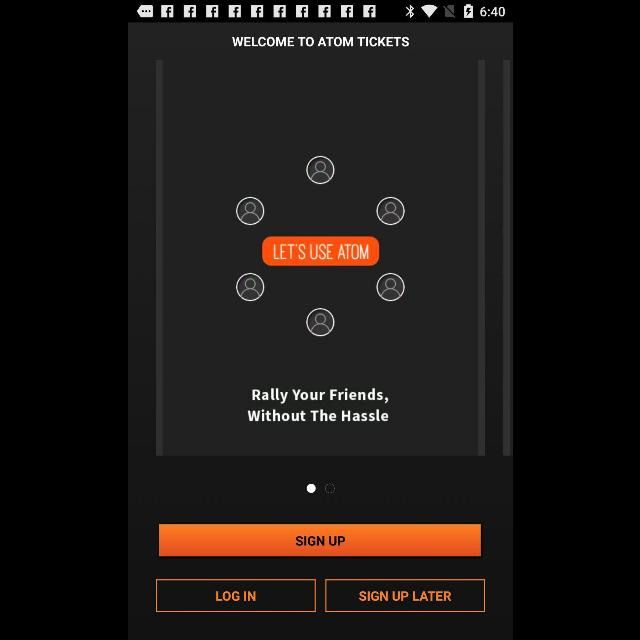image: (236, 156, 404, 338)
pageindicator: (306, 484, 334, 494)
text: (246, 388, 388, 422), (232, 37, 408, 47)
textbutton: (158, 524, 480, 556), (155, 580, 315, 612), (324, 580, 484, 612)
uppertaskbar: (128, 1, 512, 23)
